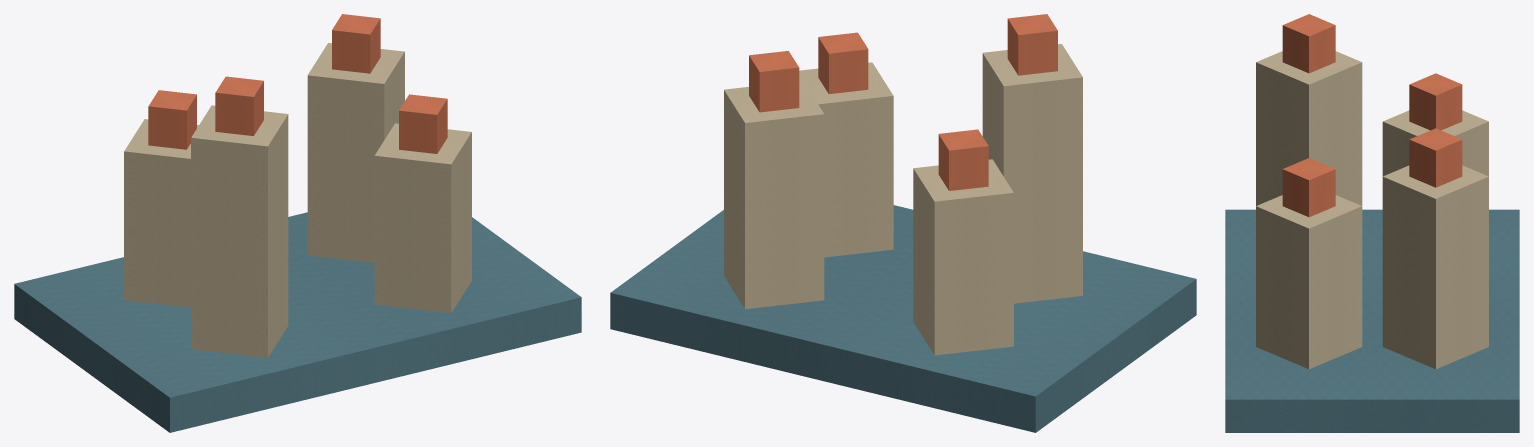
The model's file is atlas100-s041-a04.lod2.glb.
The picture shows the model from 3 angles, left to right: view 1: azimuth 30°, elevation 25°; view 2: azimuth 150°, elevation 25°; view 3: azimuth 270°, elevation 25°; orthographic projection. The views are drawn at different scales.
Parts seen in each view (by area): view 1: atlas100-s041-a04:part-000, atlas100-s041-a04:part-007, atlas100-s041-a04:part-010, atlas100-s041-a04:part-004, atlas100-s041-a04:part-001, atlas100-s041-a04:part-008, atlas100-s041-a04:part-011, atlas100-s041-a04:part-005, atlas100-s041-a04:part-002; view 2: atlas100-s041-a04:part-000, atlas100-s041-a04:part-004, atlas100-s041-a04:part-007, atlas100-s041-a04:part-001, atlas100-s041-a04:part-010, atlas100-s041-a04:part-008, atlas100-s041-a04:part-002, atlas100-s041-a04:part-005, atlas100-s041-a04:part-011; view 3: atlas100-s041-a04:part-000, atlas100-s041-a04:part-004, atlas100-s041-a04:part-010, atlas100-s041-a04:part-007, atlas100-s041-a04:part-001, atlas100-s041-a04:part-005, atlas100-s041-a04:part-008, atlas100-s041-a04:part-011, atlas100-s041-a04:part-002.
Boxes of the visible parts, bbox=[...] form: atlas100-s041-a04:part-000: bbox=[14, 212, 581, 432]; atlas100-s041-a04:part-007: bbox=[191, 105, 288, 357]; atlas100-s041-a04:part-010: bbox=[374, 123, 471, 313]; atlas100-s041-a04:part-004: bbox=[307, 43, 404, 262]; atlas100-s041-a04:part-001: bbox=[124, 119, 198, 307]; atlas100-s041-a04:part-008: bbox=[215, 76, 263, 135]; atlas100-s041-a04:part-011: bbox=[399, 94, 447, 153]; atlas100-s041-a04:part-005: bbox=[332, 14, 380, 73]; atlas100-s041-a04:part-002: bbox=[148, 90, 196, 149]; atlas100-s041-a04:part-000: bbox=[610, 205, 1196, 432]; atlas100-s041-a04:part-004: bbox=[724, 80, 824, 309]; atlas100-s041-a04:part-007: bbox=[982, 44, 1082, 303]; atlas100-s041-a04:part-001: bbox=[913, 159, 1013, 355]; atlas100-s041-a04:part-010: bbox=[799, 62, 893, 257]; atlas100-s041-a04:part-008: bbox=[1007, 14, 1057, 75]; atlas100-s041-a04:part-002: bbox=[938, 129, 988, 190]; atlas100-s041-a04:part-005: bbox=[749, 51, 799, 112]; atlas100-s041-a04:part-011: bbox=[818, 32, 868, 93]; atlas100-s041-a04:part-000: bbox=[1225, 209, 1519, 432]; atlas100-s041-a04:part-004: bbox=[1382, 165, 1488, 369]; atlas100-s041-a04:part-010: bbox=[1256, 195, 1362, 369]; atlas100-s041-a04:part-007: bbox=[1256, 51, 1362, 205]; atlas100-s041-a04:part-001: bbox=[1382, 110, 1488, 176]; atlas100-s041-a04:part-005: bbox=[1409, 128, 1462, 187]; atlas100-s041-a04:part-008: bbox=[1282, 14, 1335, 73]; atlas100-s041-a04:part-011: bbox=[1282, 158, 1335, 217]; atlas100-s041-a04:part-002: bbox=[1409, 73, 1462, 130].
Bounding box in the file's own units: 1.18 × 0.7804 × 0.7697.
3 materials, 3 textured.
